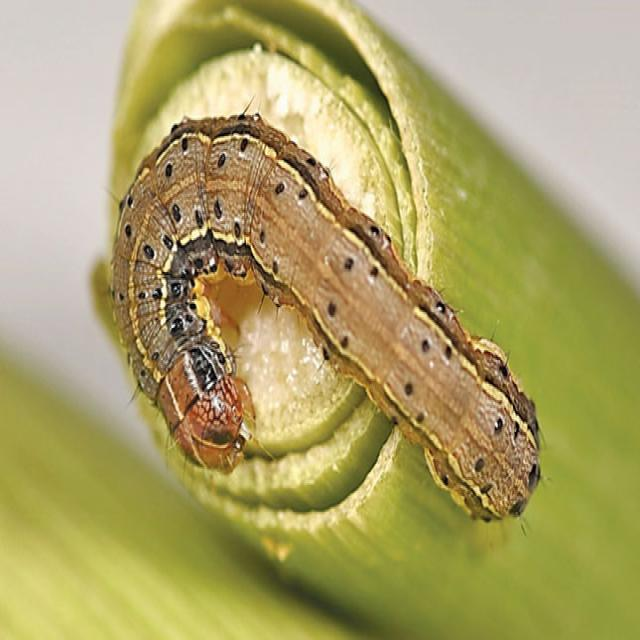pest-armyworm: (110, 107, 547, 536)
